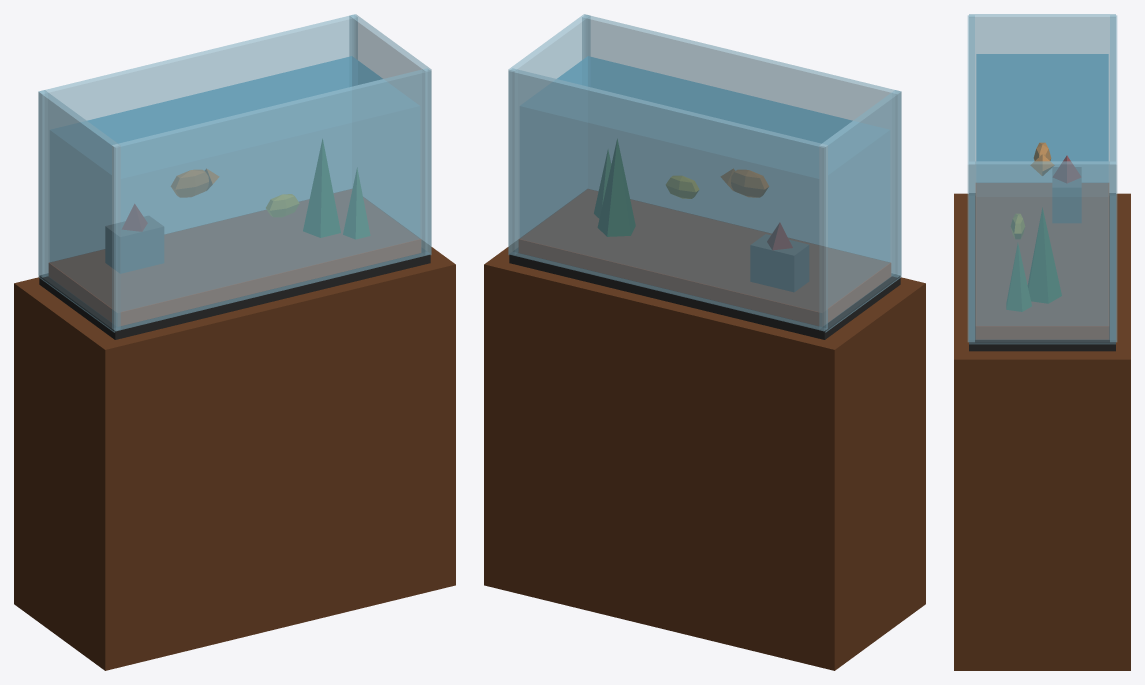
File: fishTank.fbx
The picture shows the model from 3 angles, left to right: view 1: azimuth 30°, elevation 25°; view 2: azimuth 150°, elevation 25°; view 3: azimuth 270°, elevation 25°; orthographic projection. The views are drawn at different scales.
Visible parts, largest first — view 1: fishTank, fish; view 2: fishTank, fish; view 3: fishTank, fish.
Boxes of the visible parts, box(x1,y1,x2,y2) form: fishTank: box(14, 14, 455, 670); fish: box(171, 169, 299, 216); fishTank: box(484, 14, 925, 670); fish: box(666, 169, 768, 198); fishTank: box(954, 14, 1130, 670); fish: box(1011, 142, 1054, 238).
Bounding box in the file's own units: 3.2 × 4.49 × 1.44.
